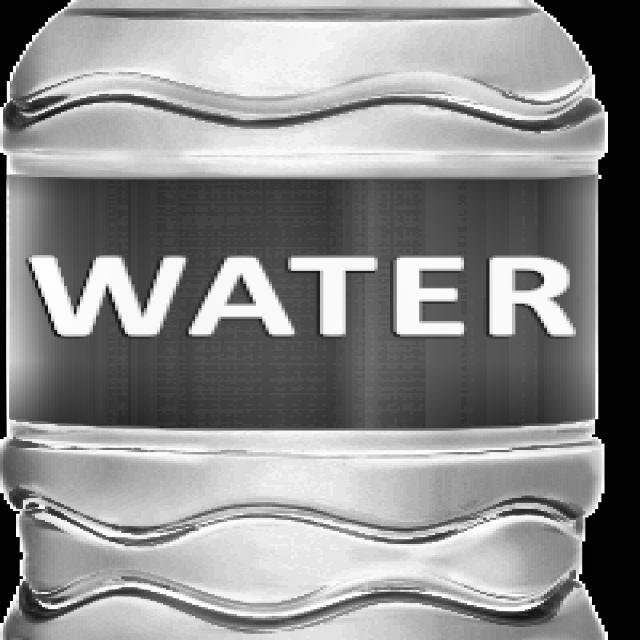bottle: (0, 0, 608, 640)
